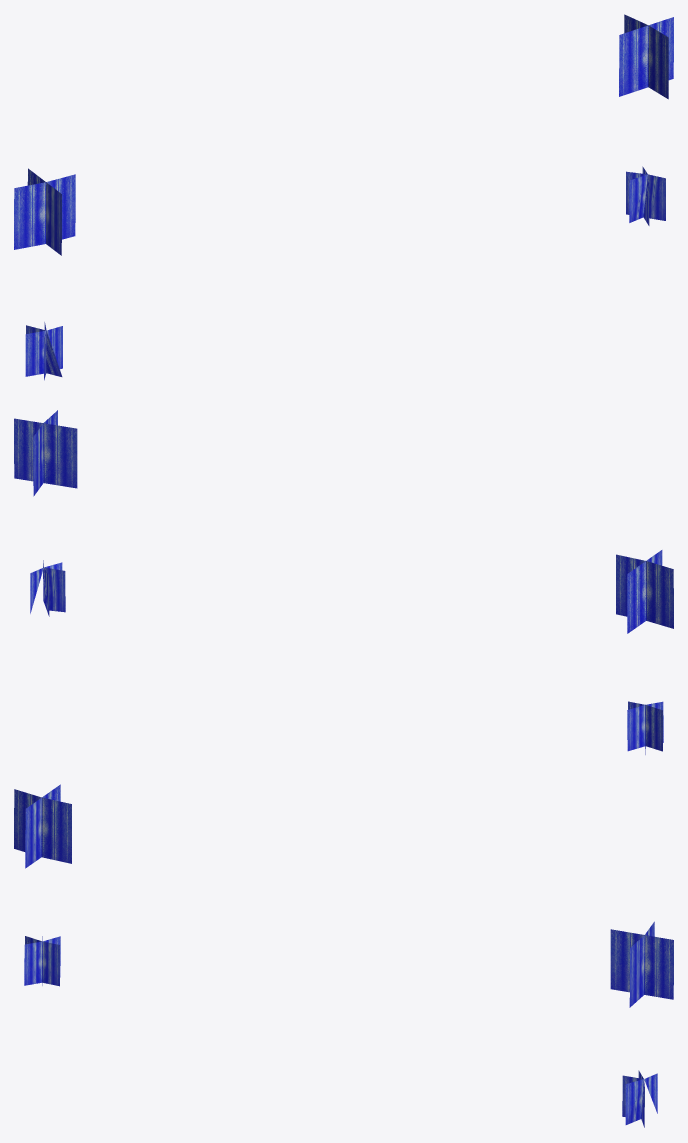
The picture shows the model from 3 angles, top to bottom: view 1: azimuth 30°, elevation 25°; view 2: azimuth 150°, elevation 25°; view 3: azimuth 330°, elevation 25°; orthographic projection. The views are drawn at different scales.
Bounding box in the file's own units: 0.4107 × 0.1122 × 0.0462.
1 material, 1 textured.
